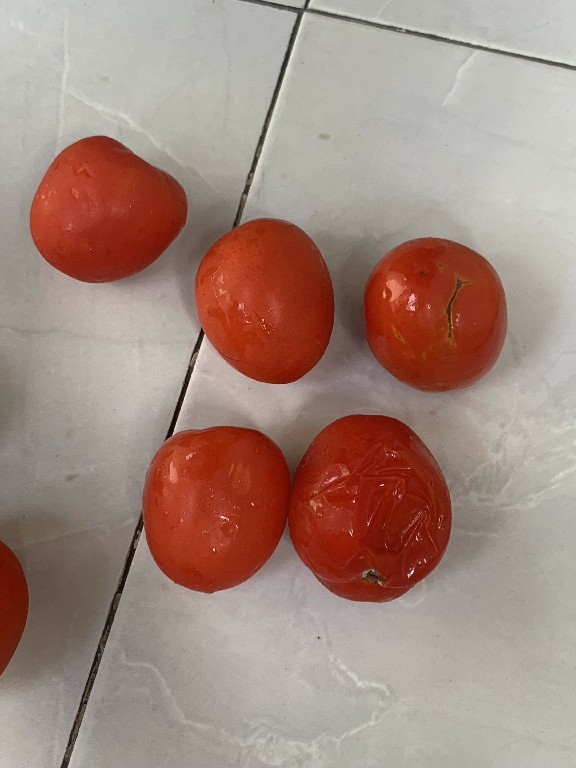NG: (285, 411, 454, 614), (353, 227, 517, 396)
OK: (19, 128, 197, 296), (133, 419, 282, 596), (211, 209, 335, 385)
